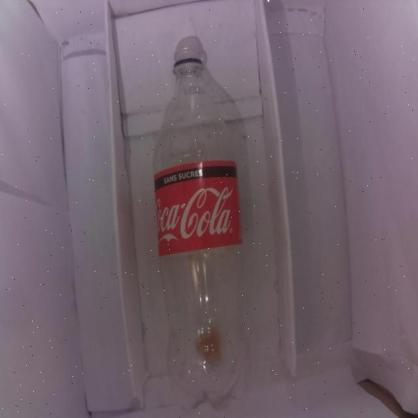bottle: (150, 46, 254, 418)
label: (154, 162, 246, 256)
